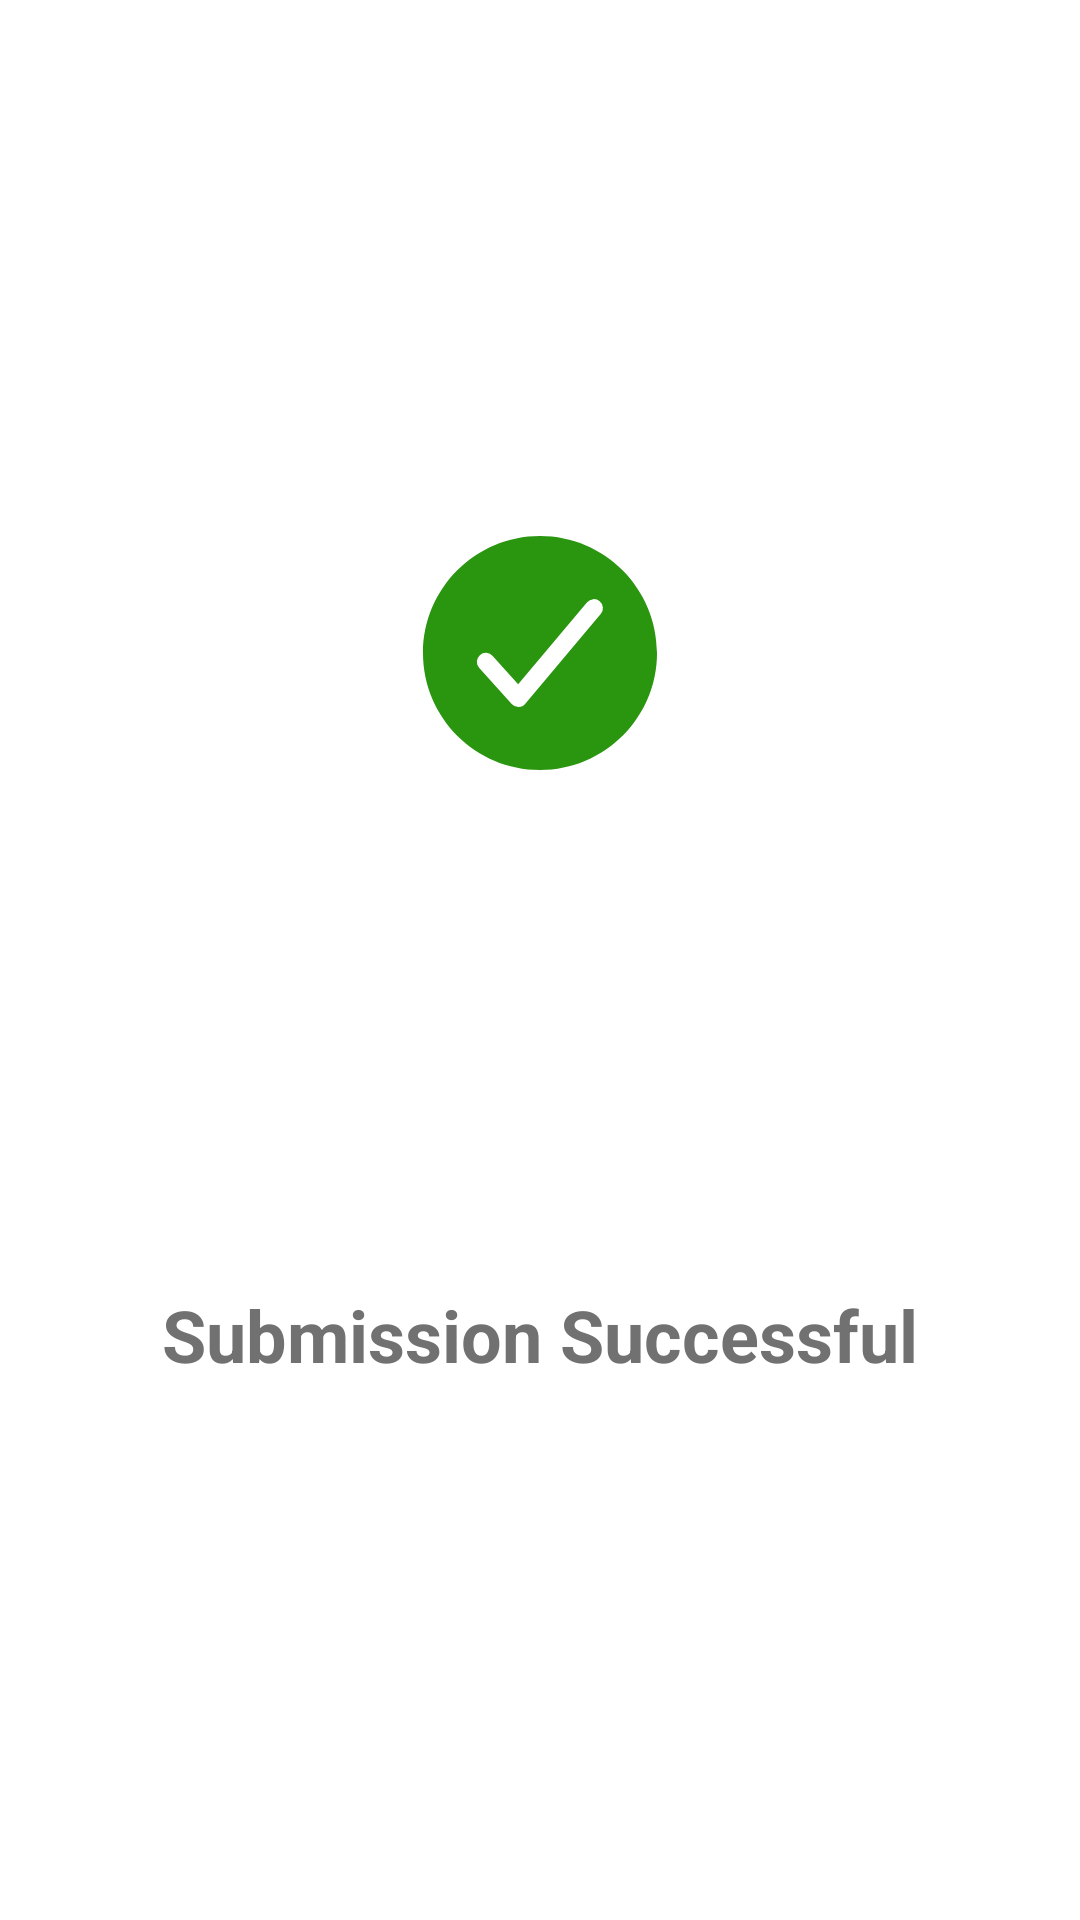

Point at icon controls on the screen. Image size 1080px×1920px, points as point (x, y).
checkmark circle: point (540, 653)
